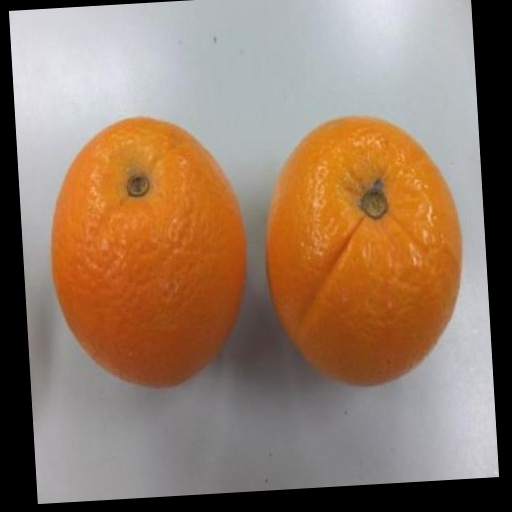fruit: (266, 118, 460, 384), (51, 119, 244, 386)
